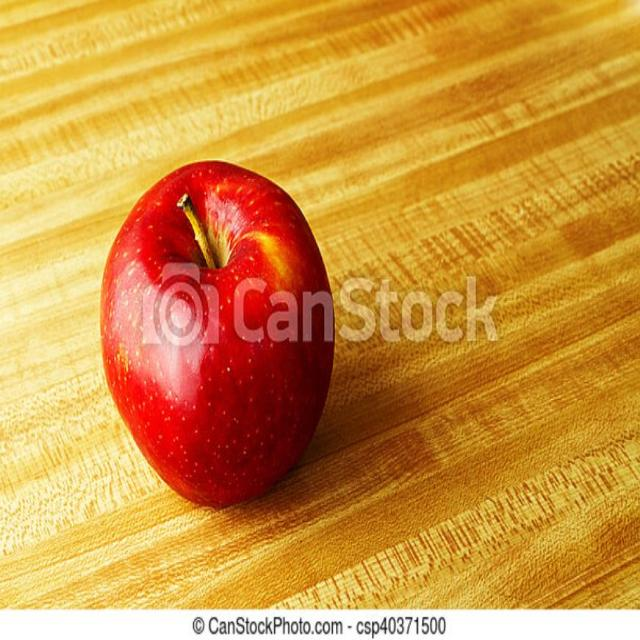Healty Apple: (94, 136, 336, 503)
